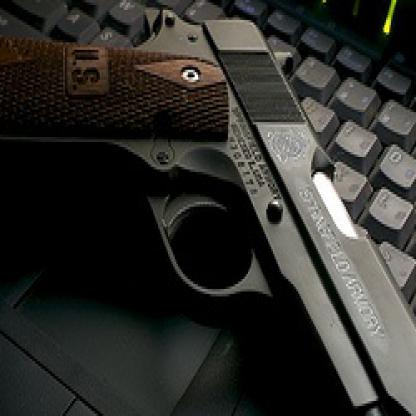gun: (0, 22, 415, 414)
